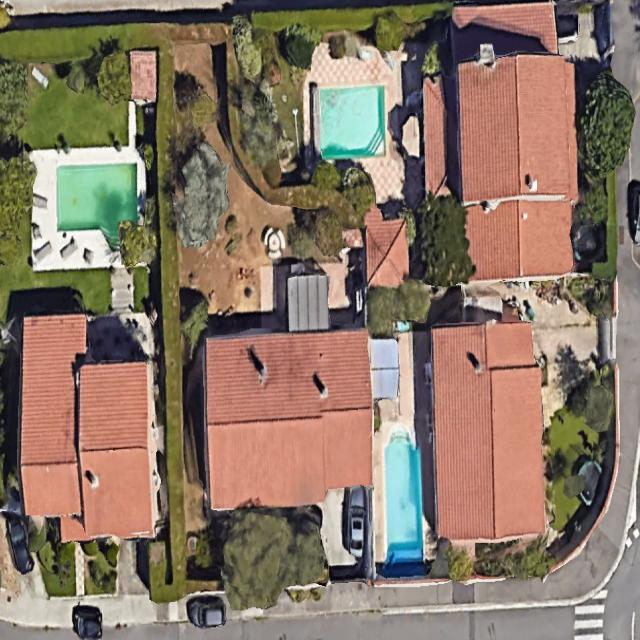maison: (420, 0, 578, 279), (11, 309, 163, 543), (199, 328, 377, 510), (427, 321, 548, 545)
